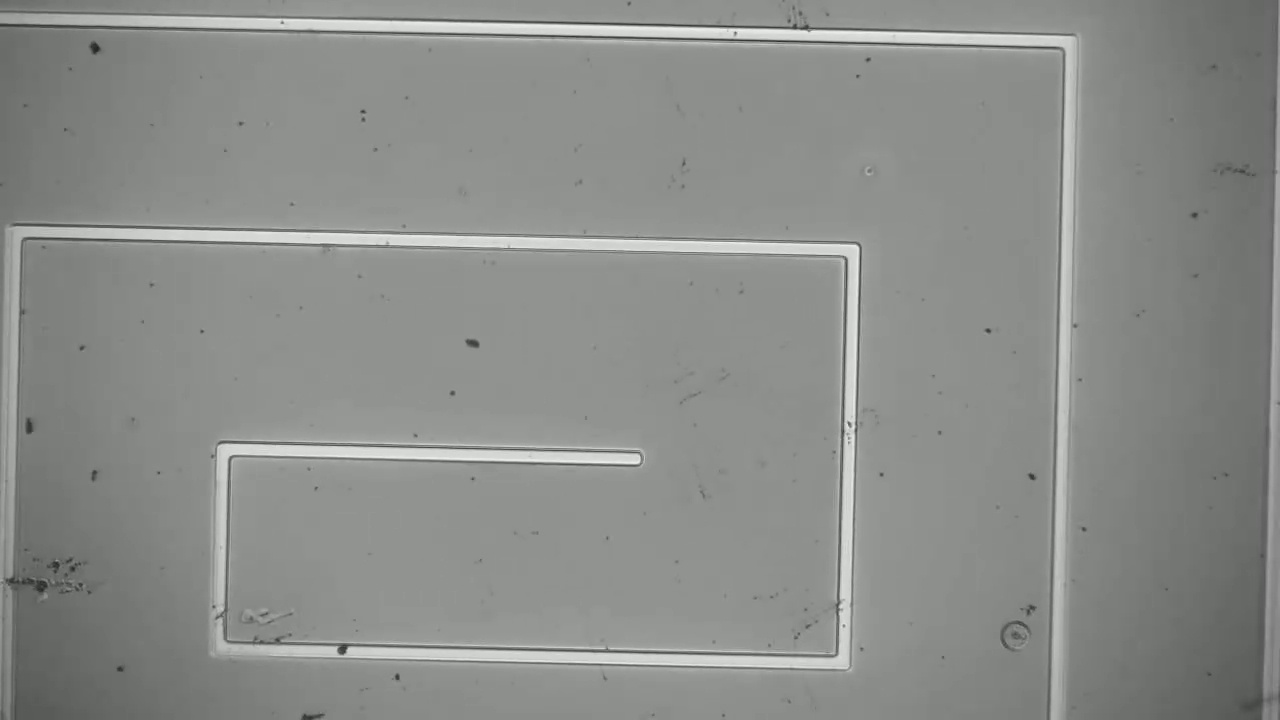stains_enbedded: (326, 633, 350, 668)
